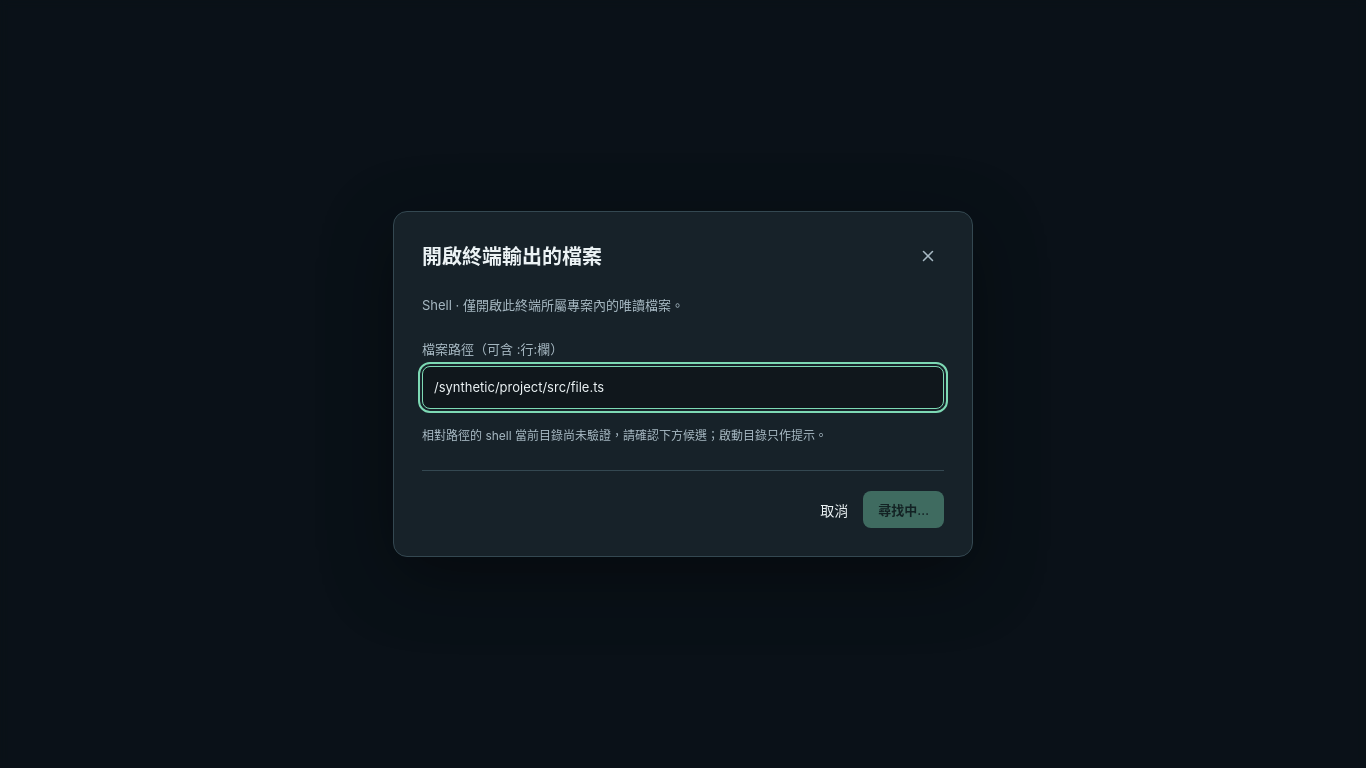
Test: editing input cancels the old intent and errors remain readable without opening
The image size is (1366, 768).
Replace the text in the field labelled "檔案路徑（可含 :行:欄）" with "https://evil.test/file.ts" at (683, 388), box [422, 366, 944, 409]
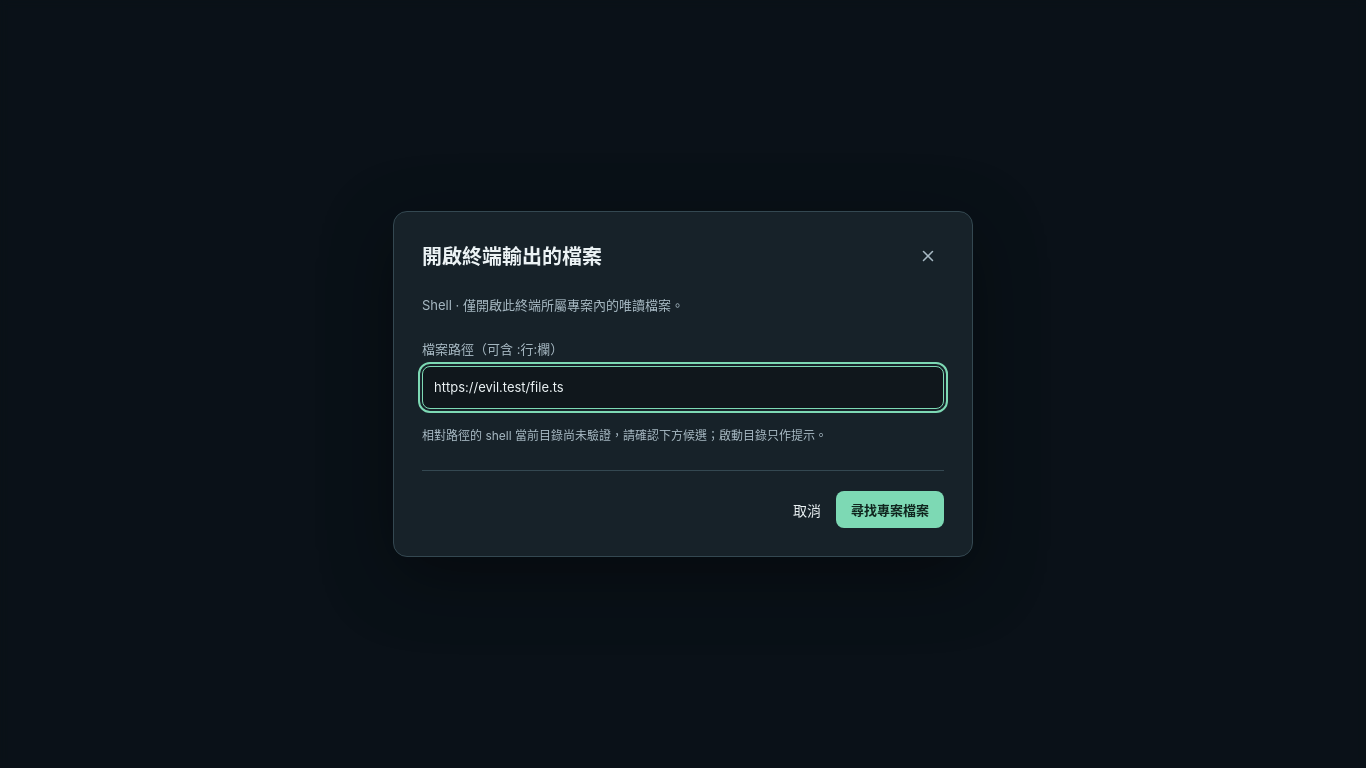
Click the button "尋找專案檔案".
click(890, 510)  # box [836, 491, 944, 528]
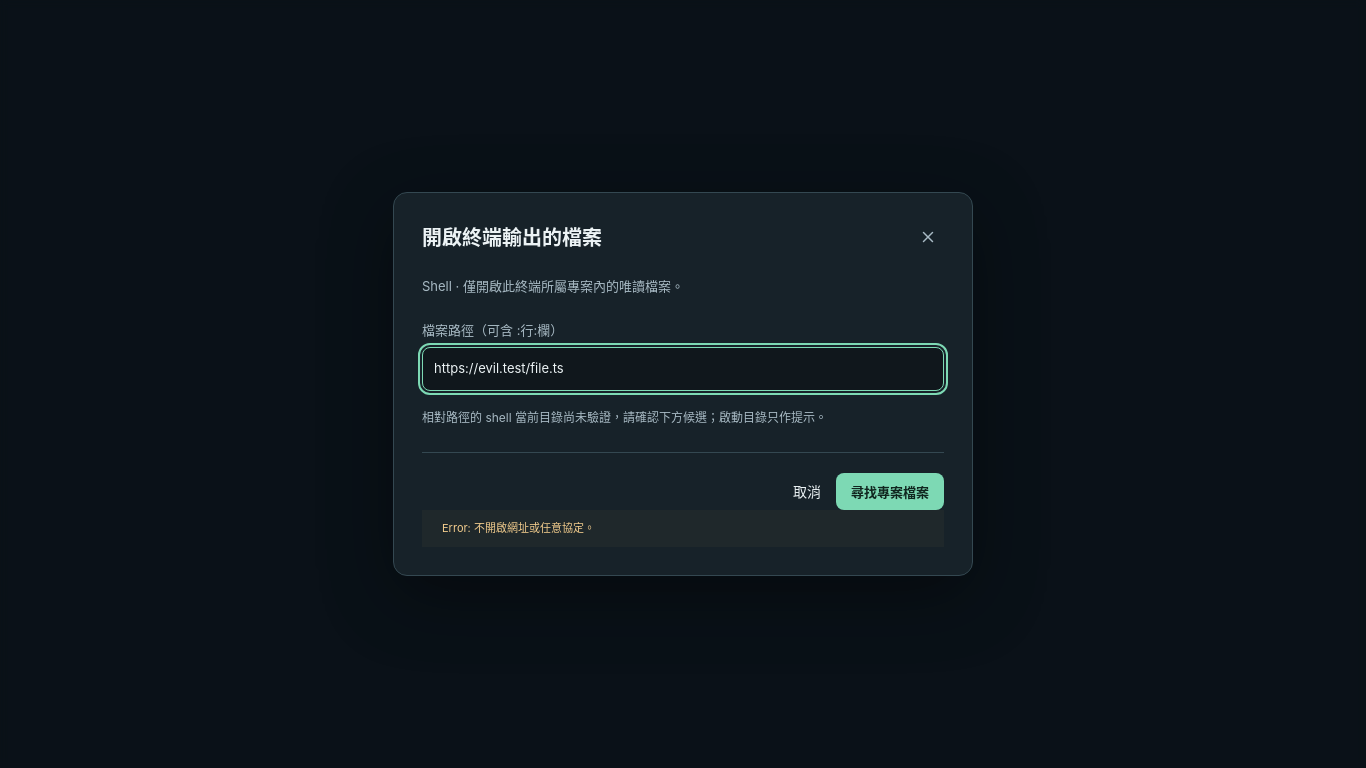
Expected: the message shows "網址", [422, 510, 944, 547]
